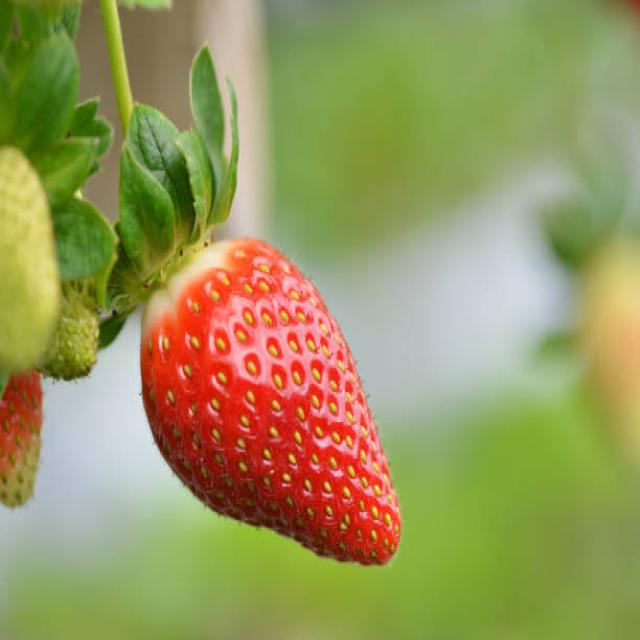Healthy Fruit: (140, 236, 402, 566)
